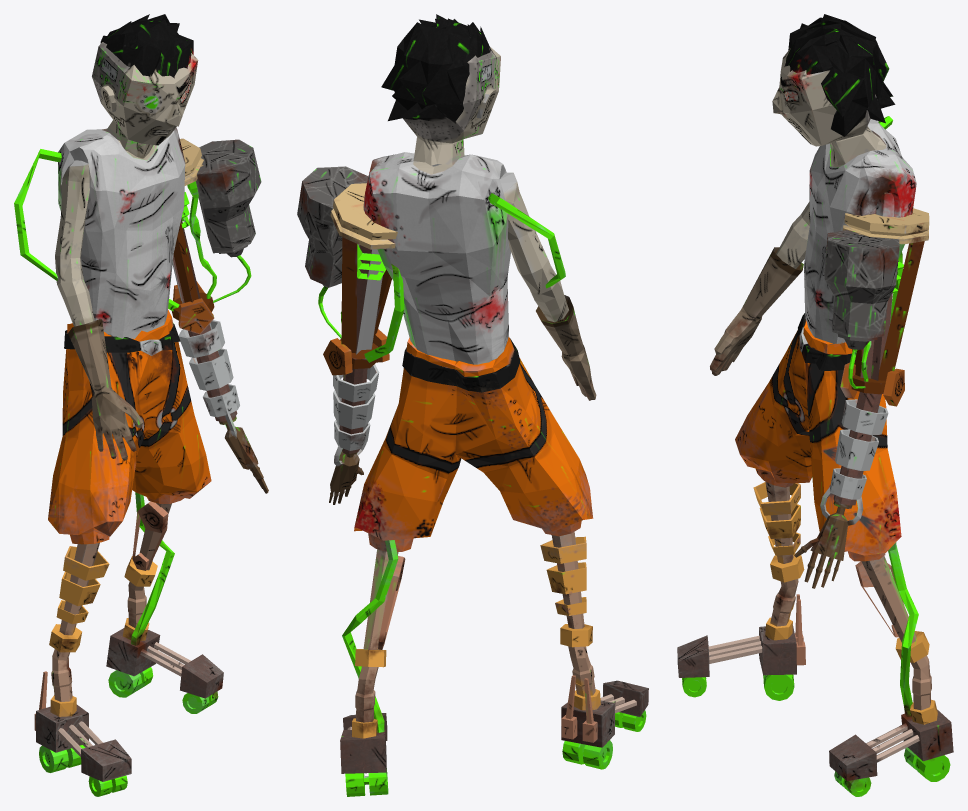
The model's file is CyborgFINALAnimation_000159.obj.
The picture shows the model from 3 angles, left to right: view 1: azimuth 30°, elevation 25°; view 2: azimuth 150°, elevation 25°; view 3: azimuth 270°, elevation 25°; orthographic projection. The views are drawn at different scales.
Parts seen in each view (by area): view 1: CyborgMesh_Cube.002; view 2: CyborgMesh_Cube.002; view 3: CyborgMesh_Cube.002.
Boxes of the visible parts, x1,y1,x2,y2 form: CyborgMesh_Cube.002: (14, 14, 268, 796); CyborgMesh_Cube.002: (297, 14, 648, 796); CyborgMesh_Cube.002: (677, 14, 953, 796).
Bounding box in the file's own units: 3.56 × 9.66 × 3.27.
